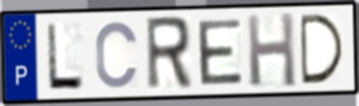C: (93, 19, 141, 91)
D: (297, 12, 347, 87)
E: (195, 17, 245, 88)
H: (244, 10, 299, 90)
L: (44, 21, 87, 92)
R: (143, 13, 195, 93)
